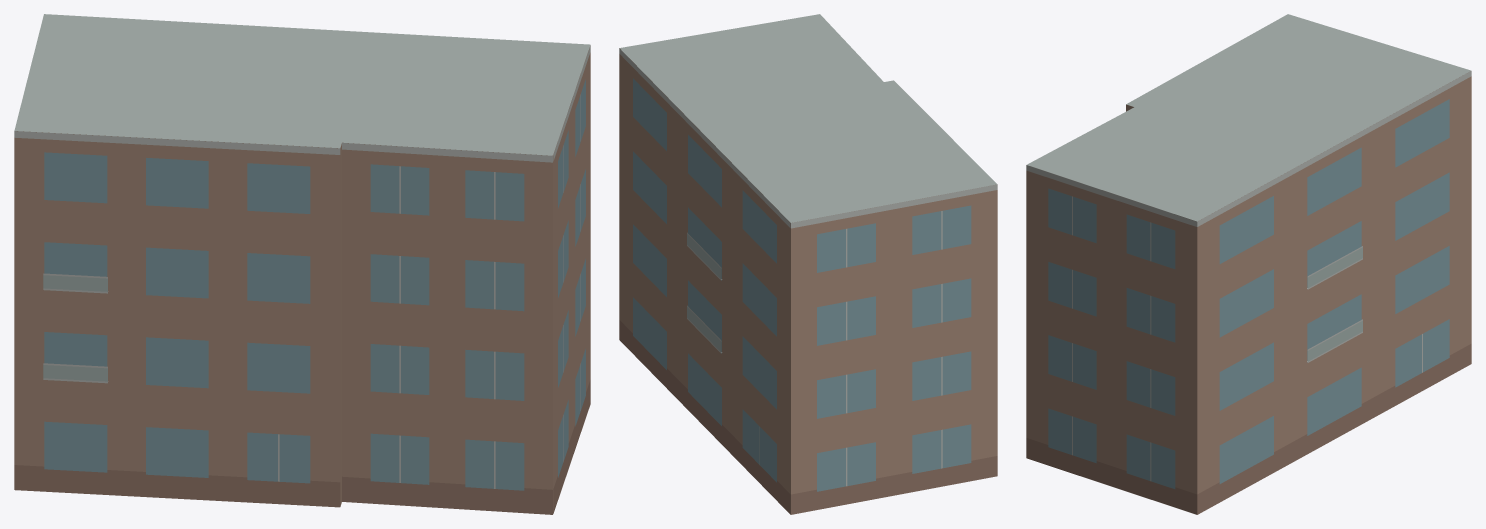
File: survey-upis-32629419.glb
3 renders of one model, left to right at view 1: azimuth 30°, elevation 25°; view 2: azimuth 150°, elevation 25°; view 3: azimuth 270°, elevation 25°, orthographic. The views are drawn at different scales.
Parts seen in each view (by area): view 1: survey-upis-32629419.tmp; view 2: survey-upis-32629419.tmp; view 3: survey-upis-32629419.tmp.
Part boxes in pixels (<box>): survey-upis-32629419.tmp: <box>14,14,590,514</box>; survey-upis-32629419.tmp: <box>619,14,997,514</box>; survey-upis-32629419.tmp: <box>1026,14,1471,514</box>.
Size of the model in its own units: 19.43 by 12.8 by 17.61.
